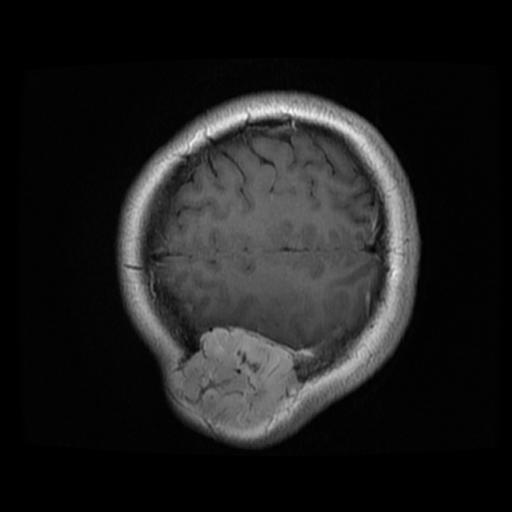meningioma: (179, 328, 298, 427)
